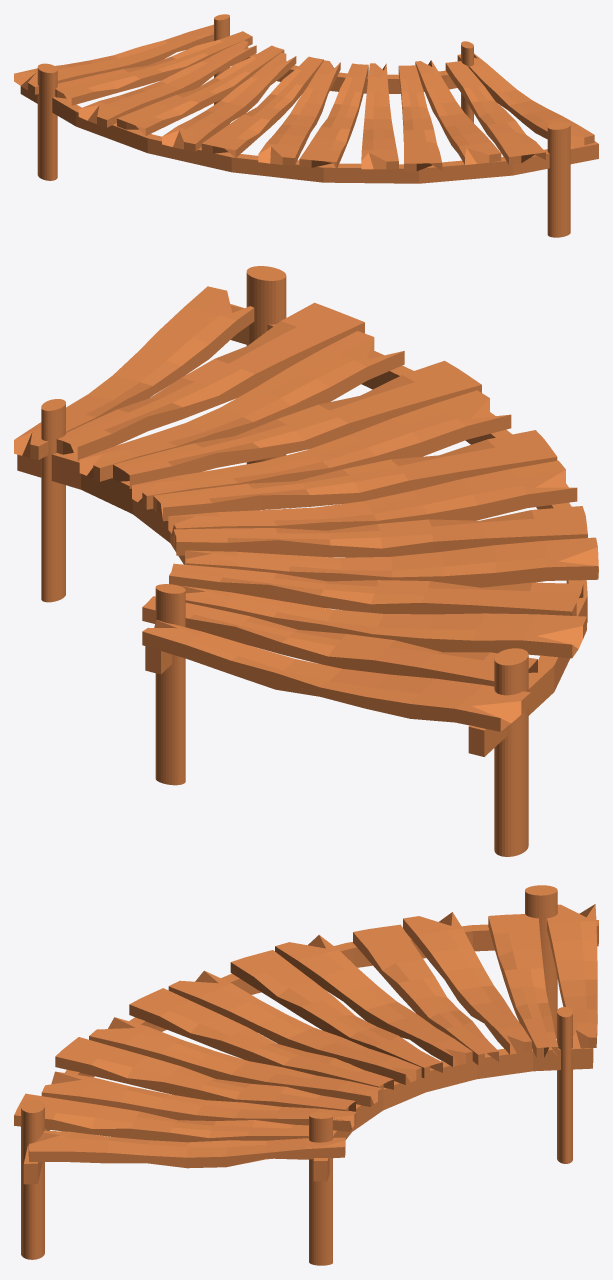
File: curveBridge.fbx
3 views of the same model, one above another, from view 1: azimuth 30°, elevation 25°; view 2: azimuth 150°, elevation 25°; view 3: azimuth 270°, elevation 25° (orthographic). The views are drawn at different scales.
Visible parts, largest first — view 1: bridgeCurve; view 2: bridgeCurve; view 3: bridgeCurve.
Boxes of the visible parts, <box> form: bridgeCurve: <box>14,14,598,237</box>; bridgeCurve: <box>14,266,598,856</box>; bridgeCurve: <box>14,885,598,1265</box>.
Size of the model in its own units: 616 by 169 by 611.
